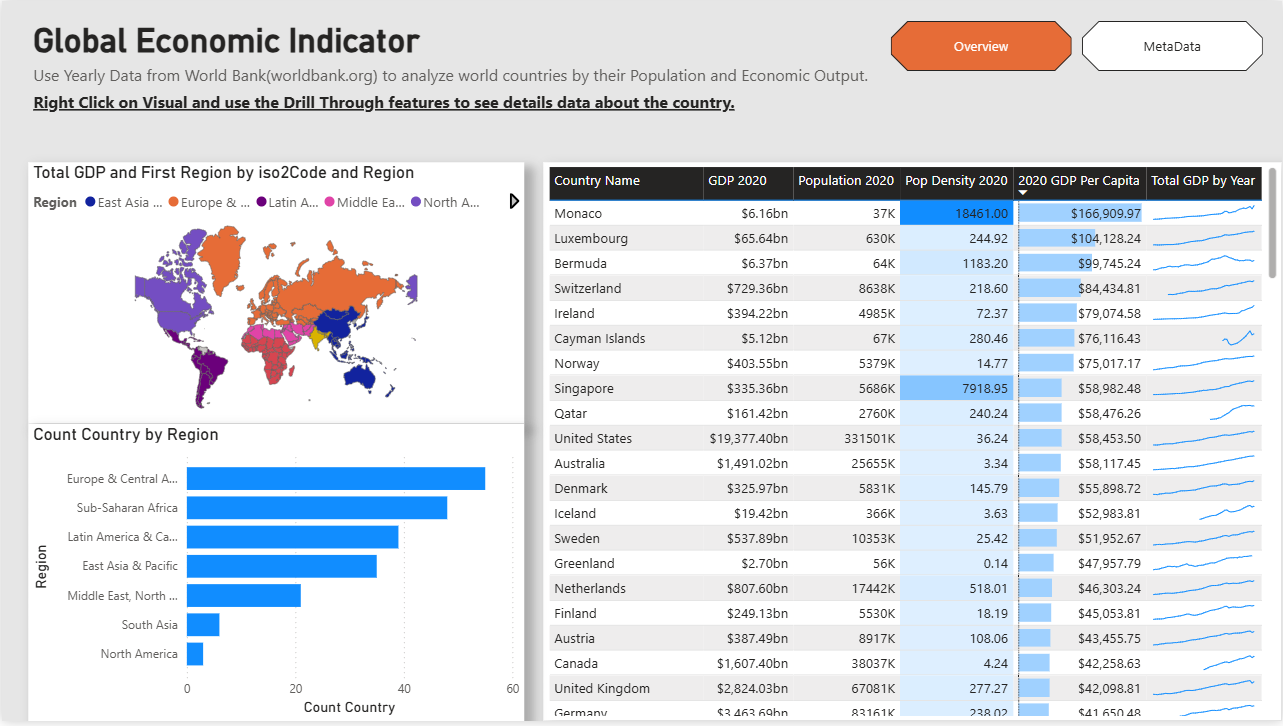

What the dashboard file says about the page in this screenshot:
{"tool":"powerbi","page":{"name":"Overview","canvas":[1280,720],"ordinal":0},"visuals":[{"type":"tableEx","fields":{"Values":["countries.Country Name","_measure.GDP 2020","_measure.Population 2020","_measure.Pop Density 2020","_measure.2020 GDP Per Capita","SparklineData(_measure.Total GDP_[Indicators.Year])"]},"box":[541,161.6,738.7,558.3],"z":0},{"type":"shapeMap","fields":{"Category":["countries.iso2Code"],"Series":["countries.Region"],"Value":["_measure.Total GDP"]},"box":[26,161.6,496.3,261.1],"z":1000},{"type":"barChart","fields":{"Category":["countries.Region"],"Y":["_measure.Count Country"]},"box":[26,422.7,496.3,297.2],"z":2000},{"type":"textbox","title":"Global Economic Indicator","box":[26,20.2,852.7,116.9],"z":3000},{"type":"pageNavigator","box":[888.7,20.2,372.2,50.5],"z":4000}]}

Visuals, with their boxes in screenshot pixels (x1, y1, x2, y2), scaled from the page's 1280x720 canvas onto the 1283x726 screenshot:
tableEx - countries.Country Name x _measure.GDP 2020: (542,163,1282,725)
shapeMap - countries.iso2Code x countries.Region: (26,163,524,426)
barChart - countries.Region x _measure.Count Country: (26,426,524,725)
"Global Economic Indicator" textbox: (26,20,881,138)
pageNavigator: (891,20,1264,71)
